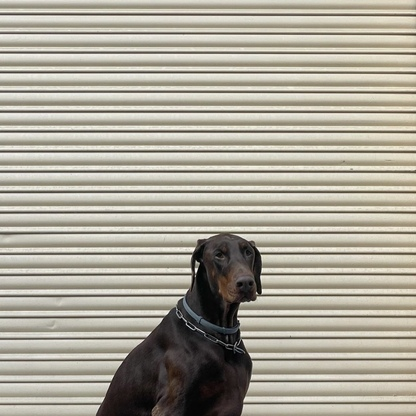doberman: (89, 224, 268, 415)
